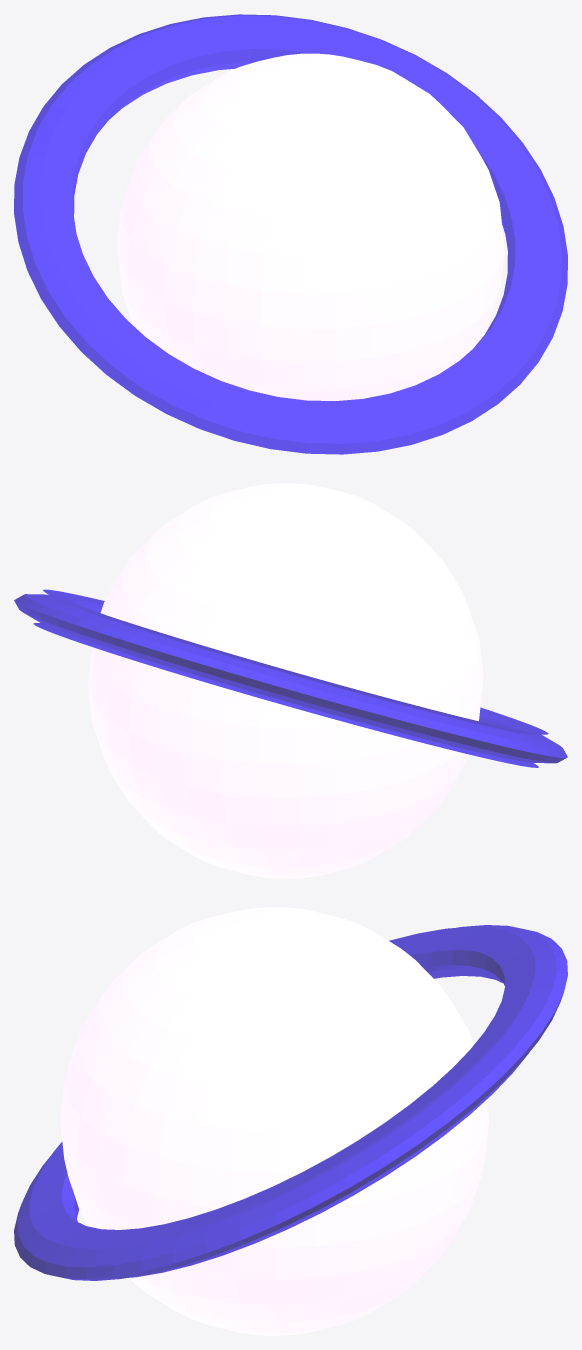
3 renders of one model, top to bottom at view 1: azimuth 30°, elevation 25°; view 2: azimuth 150°, elevation 25°; view 3: azimuth 270°, elevation 25°, orthographic. The views are drawn at different scales.
Visible parts, largest first — view 1: Sphere, Torus; view 2: Sphere, Torus; view 3: Sphere, Torus.
Boxes of the visible parts, x1,y1,x2,y2 form: Sphere: (117, 53, 504, 400); Torus: (14, 14, 567, 454); Sphere: (88, 483, 483, 878); Torus: (14, 589, 567, 767); Sphere: (60, 907, 489, 1335); Torus: (14, 925, 567, 1280).
Bounding box in the file's own units: 5.48 × 3.78 × 4.87.
